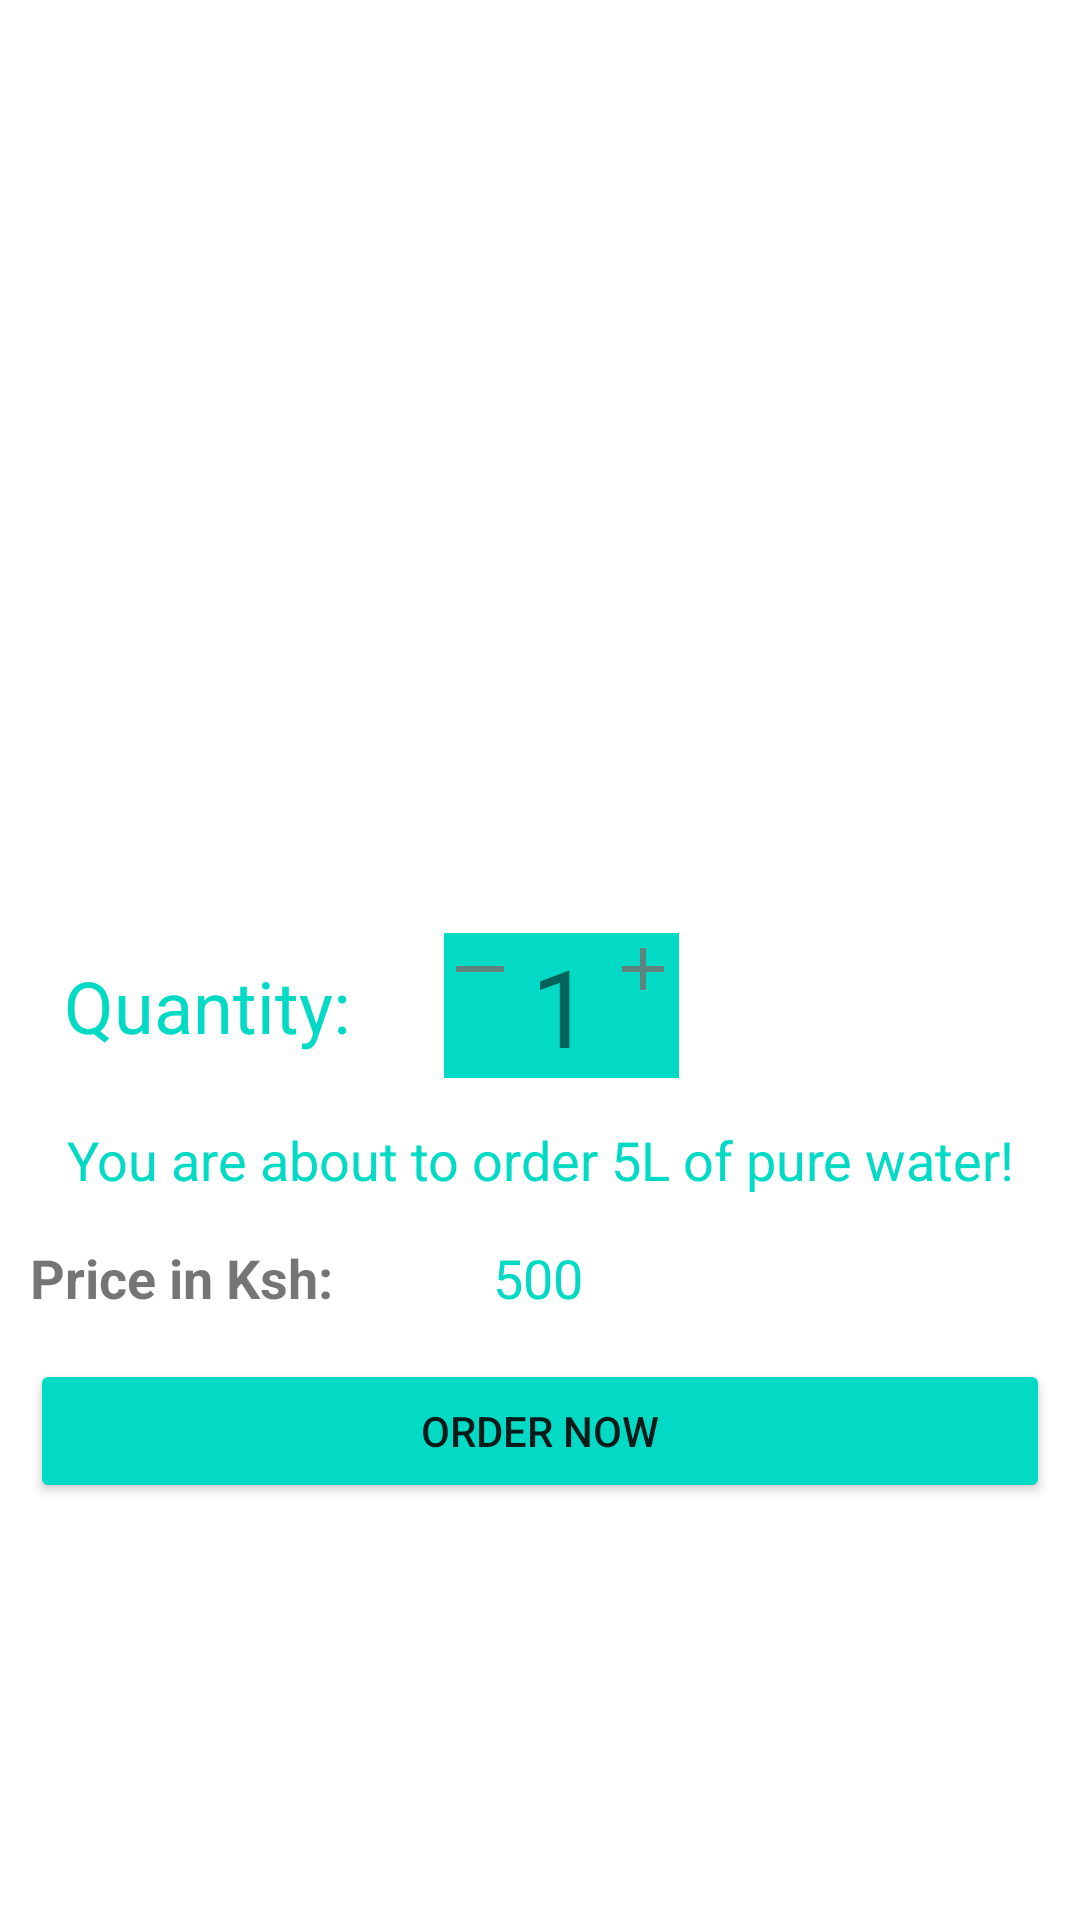

Screen size 1080px x 1920px. Icon name, then its box in pixels as {"left": x1, "top": y1, "right": x2, "bottom": y2}:
add: {"left": 622, "top": 948, "right": 664, "bottom": 990}
